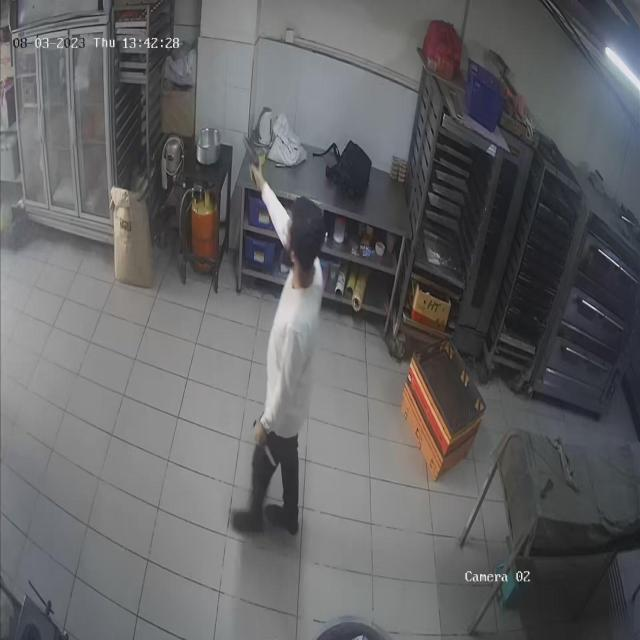Gun: (232, 127, 272, 181)
Knife: (252, 418, 284, 476)
